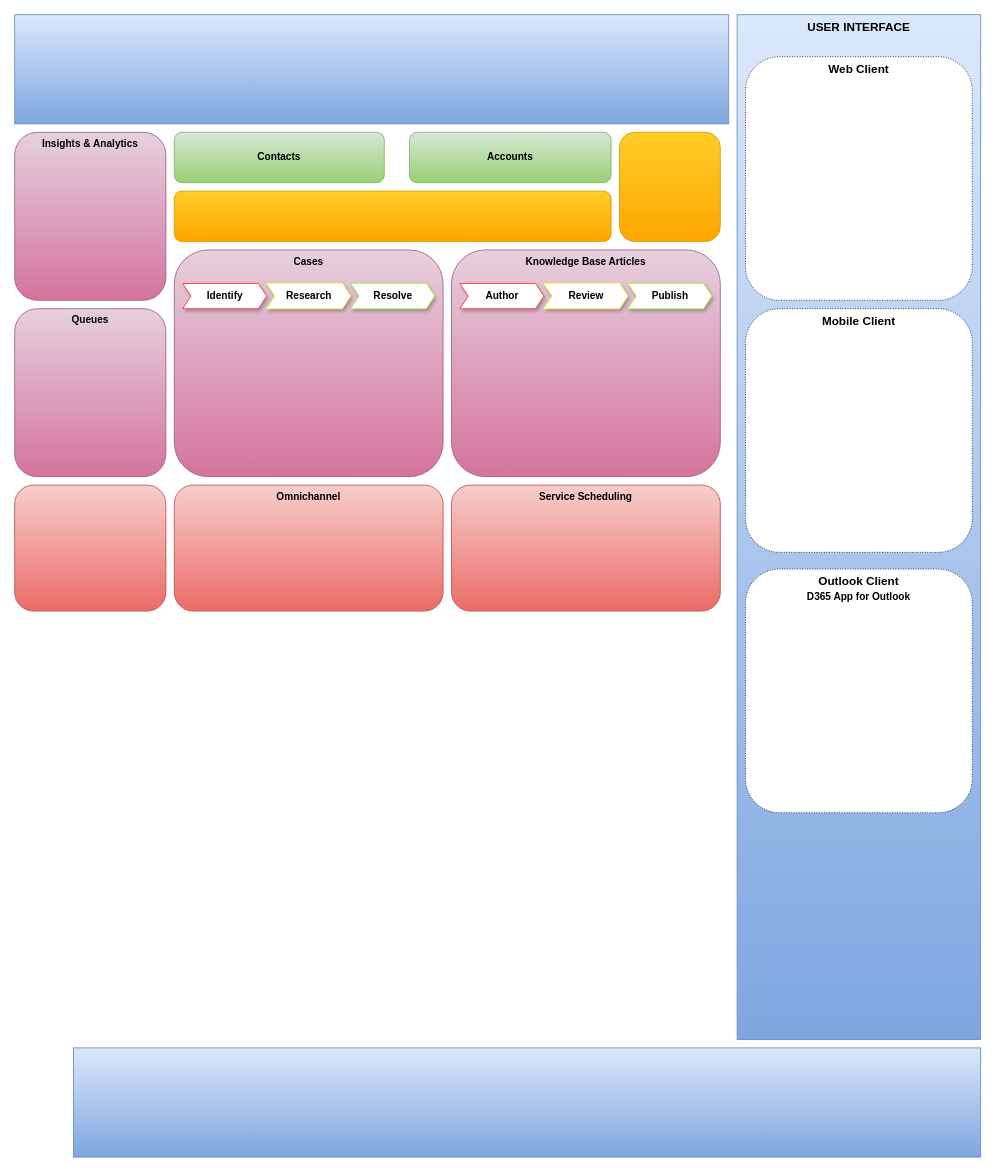
The diagram is 995 pixels wide and 1172 high, and some of its shapes have lost their labels. The shapes that lost their labels are listed below. From the top down, each one's centre as x and y in pixels, then its label:
the point at 371,69: SEARCHING & REPORTING
the point at 669,186: Documents & Collaboration
the point at 392,216: Activities ( Visible on Timeline)
the point at 90,547: Connected Customer Service
the point at 527,1102: ADMINISTRATION
